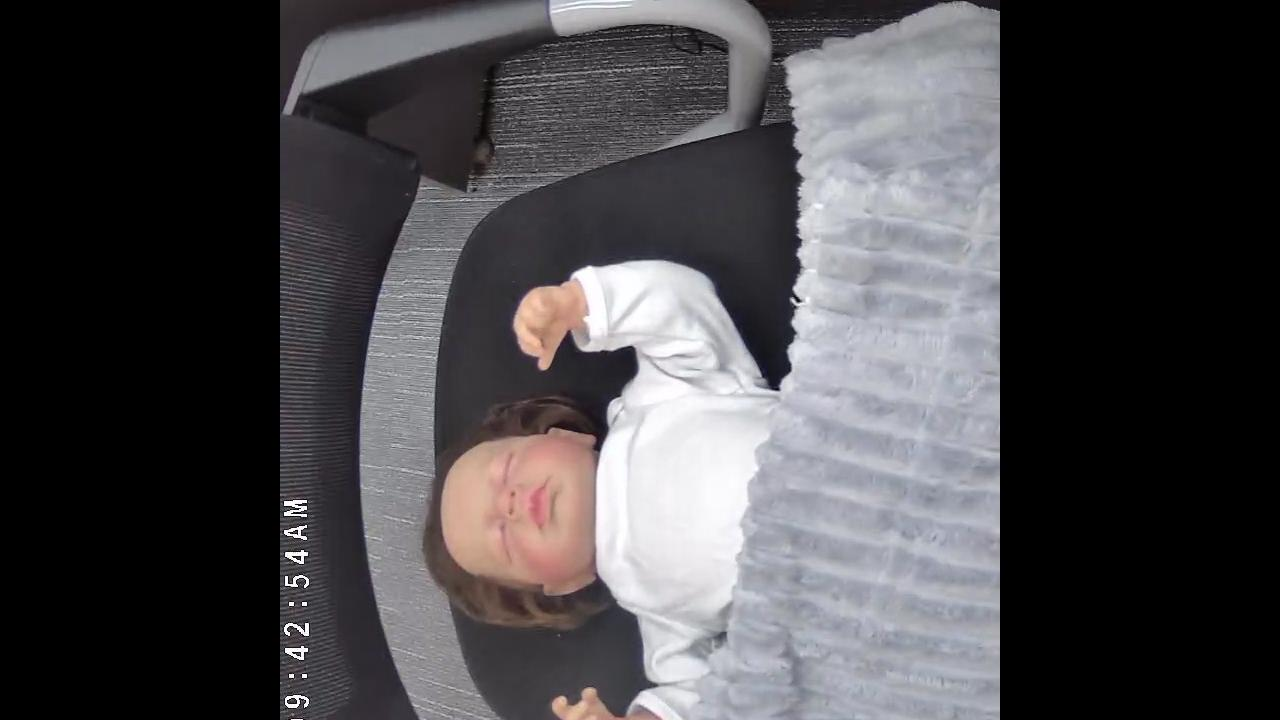hand: (513, 283, 577, 367), (550, 682, 624, 720)
